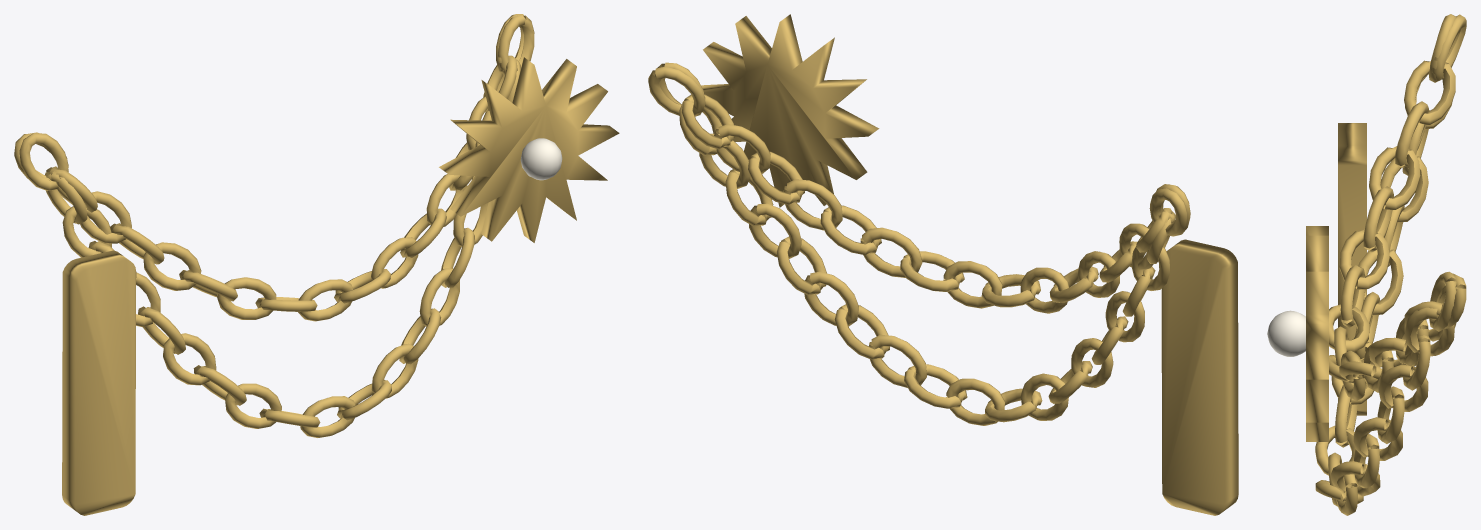
The model's file is prime_chest_jewellery.glb.
The picture shows the model from 3 angles, left to right: view 1: azimuth 30°, elevation 25°; view 2: azimuth 150°, elevation 25°; view 3: azimuth 270°, elevation 25°; orthographic projection. The views are drawn at different scales.
Parts seen in each view (by area): view 1: prime_chest_jewellery; view 2: prime_chest_jewellery; view 3: prime_chest_jewellery.
Part boxes in pixels (bbox=[...]): prime_chest_jewellery: bbox=[14, 14, 619, 515]; prime_chest_jewellery: bbox=[648, 14, 1238, 515]; prime_chest_jewellery: bbox=[1267, 14, 1466, 515].
Size of the model in its own units: 0.3518 by 0.2235 by 0.1031.
